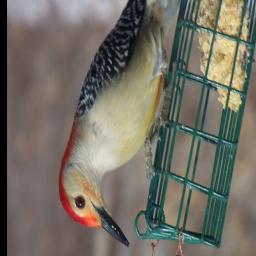Woodpecker: (58, 0, 182, 247)
